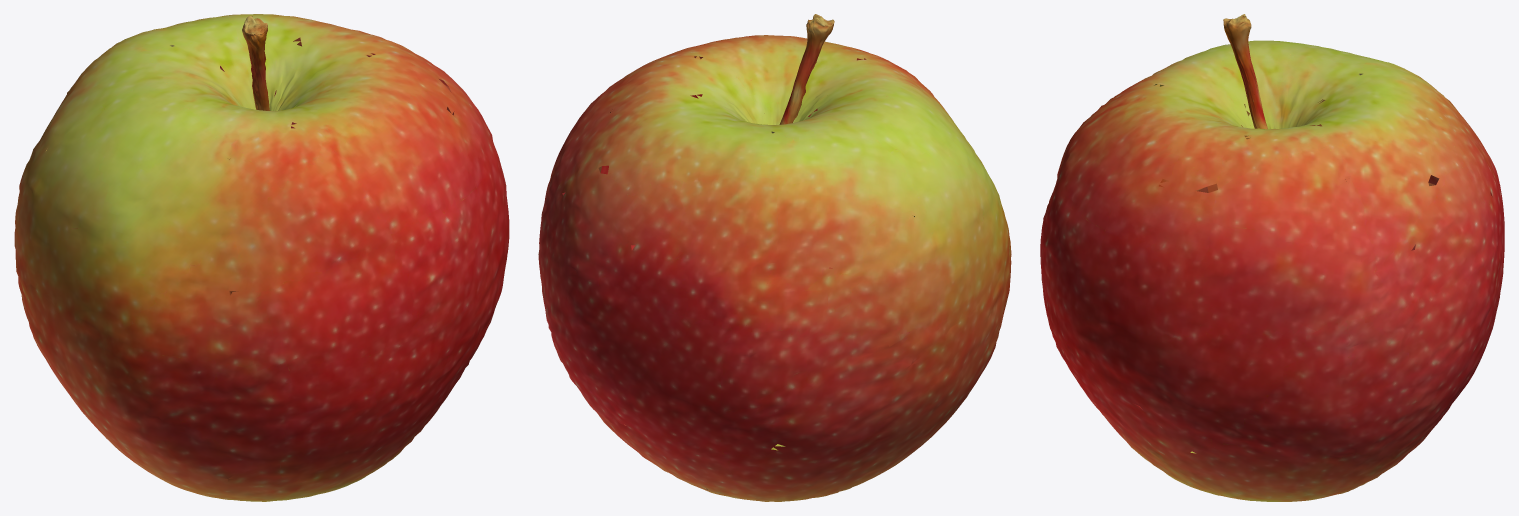
File: apple.glb
3 renders of one model, left to right at view 1: azimuth 30°, elevation 25°; view 2: azimuth 150°, elevation 25°; view 3: azimuth 270°, elevation 25°, orthographic. The views are drawn at different scales.
Bounding box in the file's own units: 0.8931 × 0.9512 × 0.9052.
1 material, 1 textured.
